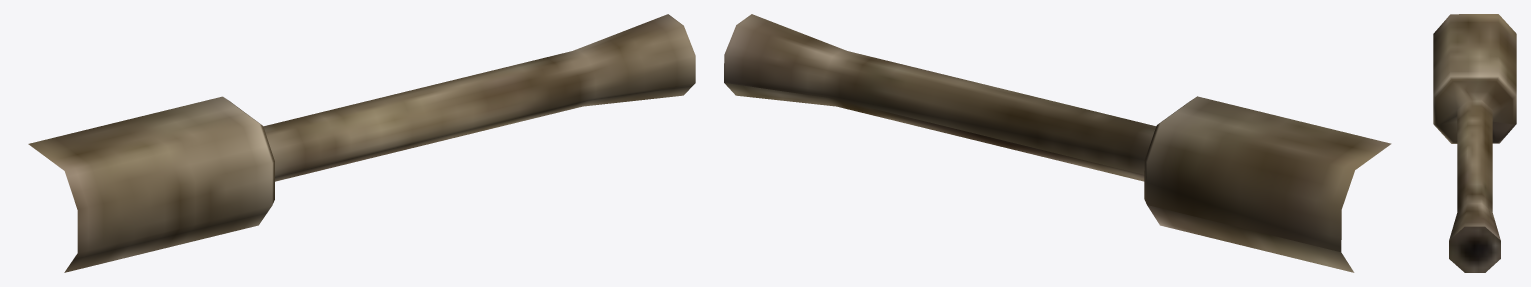
File: weapon_miniturret_crusader2.glb
3 views of the same model, side by side, from view 1: azimuth 30°, elevation 25°; view 2: azimuth 150°, elevation 25°; view 3: azimuth 270°, elevation 25° (orthographic). The views are drawn at different scales.
Bounding box in the file's own units: 25.88 × 4.03 × 4.52.
1 material, 1 textured.
